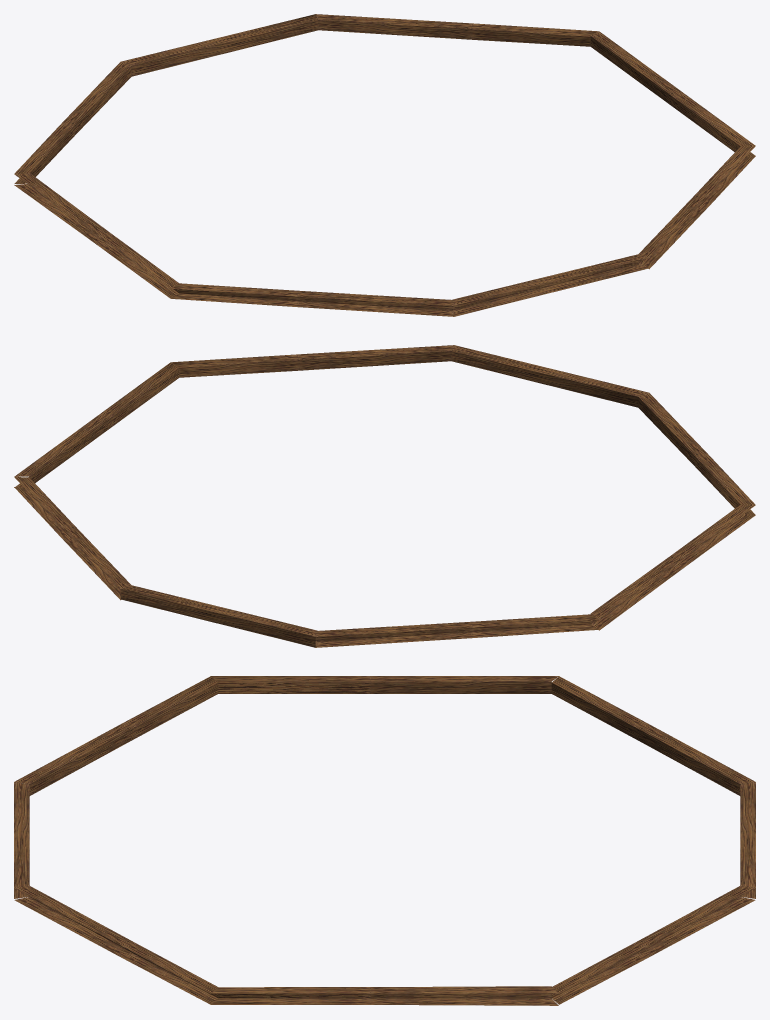
The model's file is LAKETOWN_WAREHOUSE2_PS_WH2_ROUND_BEAM9948.fbx.
The picture shows the model from 3 angles, top to bottom: view 1: azimuth 30°, elevation 25°; view 2: azimuth 150°, elevation 25°; view 3: azimuth 270°, elevation 25°; orthographic projection. The views are drawn at different scales.
Parts seen in each view (by area): view 1: LAKETOWN_WAREHOUSE2_PS_WH2_ROUND_BEAM9948; view 2: LAKETOWN_WAREHOUSE2_PS_WH2_ROUND_BEAM9948; view 3: LAKETOWN_WAREHOUSE2_PS_WH2_ROUND_BEAM9948.
Part boxes in pixels (x1,y1,x2,y2): LAKETOWN_WAREHOUSE2_PS_WH2_ROUND_BEAM9948: [14, 14, 755, 316]; LAKETOWN_WAREHOUSE2_PS_WH2_ROUND_BEAM9948: [14, 345, 755, 647]; LAKETOWN_WAREHOUSE2_PS_WH2_ROUND_BEAM9948: [14, 676, 755, 1005].
Size of the model in its own units: 176339 by 3394 by 174112.
1 material, 1 textured.
